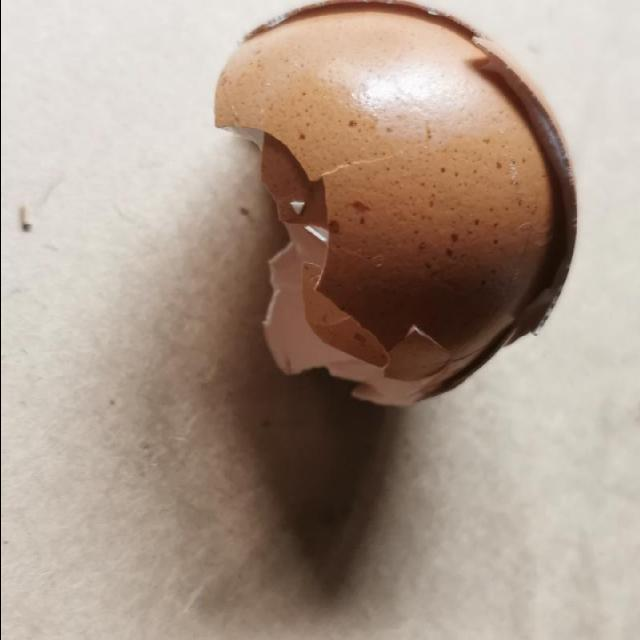egg shell: (209, 1, 578, 413)
